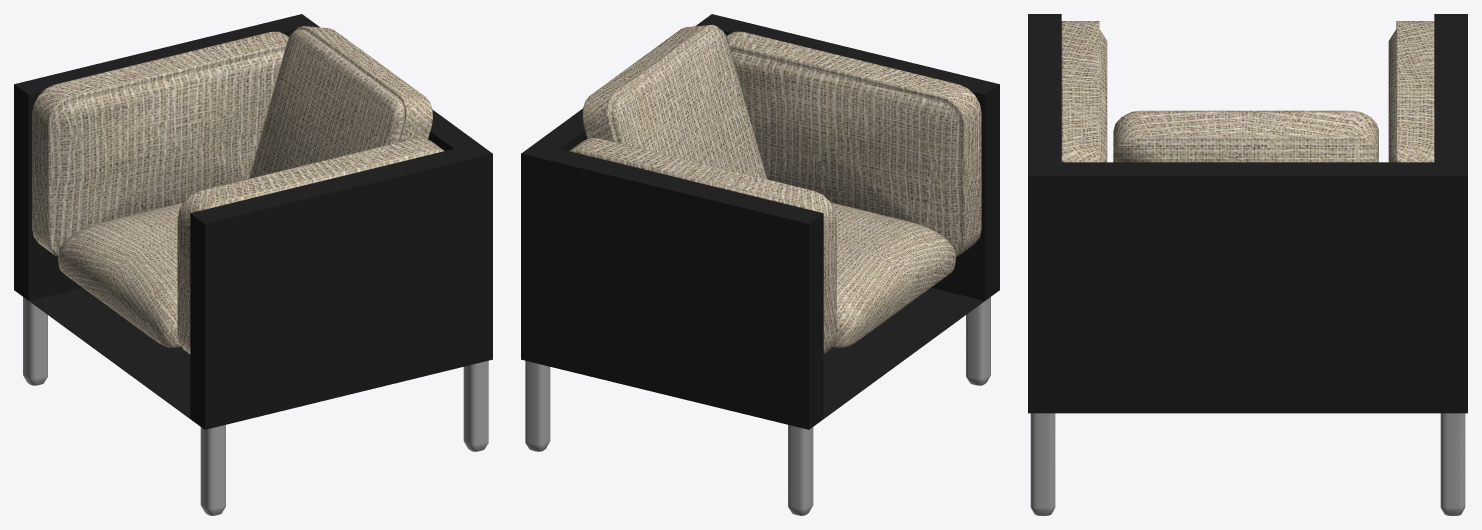
3 views of the same model, side by side, from view 1: azimuth 30°, elevation 25°; view 2: azimuth 150°, elevation 25°; view 3: azimuth 270°, elevation 25° (orthographic). The views are drawn at different scales.
Parts seen in each view (by area): view 1: base espalda, costados almohadones, espaldar, asiento, base, patas; view 2: base espalda, costados almohadones, espaldar, asiento, base, patas; view 3: base espalda, espaldar, costados almohadones, patas.
Part boxes in pixels (x1=…): base espalda: x1=14, y1=14, x2=492, y2=429; costados almohadones: x1=32, y1=31, x2=444, y2=353; espaldar: x1=248, y1=26, x2=432, y2=178; asiento: x1=58, y1=202, x2=183, y2=347; base: x1=28, y1=249, x2=190, y2=418; patas: x1=23, y1=297, x2=488, y2=515; base espalda: x1=521, y1=14, x2=999, y2=429; costados almohadones: x1=569, y1=31, x2=981, y2=353; espaldar: x1=582, y1=24, x2=767, y2=179; asiento: x1=830, y1=202, x2=955, y2=347; base: x1=823, y1=249, x2=985, y2=418; patas: x1=525, y1=297, x2=990, y2=515; base espalda: x1=1028, y1=14, x2=1467, y2=413; espaldar: x1=1113, y1=110, x2=1378, y2=162; costados almohadones: x1=1061, y1=21, x2=1434, y2=162; patas: x1=1030, y1=413, x2=1465, y2=515.
Bounding box in the file's own units: 1.09 × 1.19 × 1.24.
3 materials, 1 textured.
